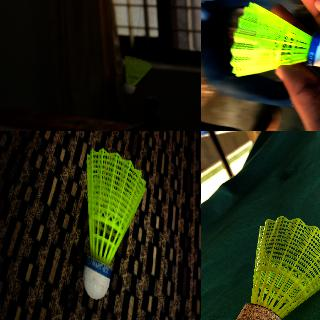shuttlecock: (83, 148, 146, 299), (233, 215, 319, 319), (229, 1, 319, 77), (124, 56, 152, 94)
